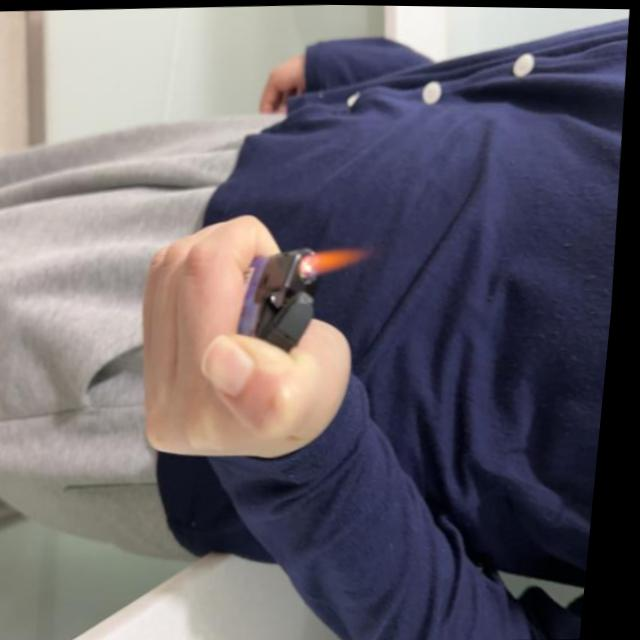Fire: (302, 245, 377, 274)
